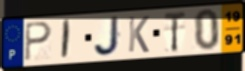0: (190, 8, 222, 52)
I: (59, 18, 73, 61)
J: (92, 15, 122, 58)
K: (127, 15, 151, 54)
P: (24, 21, 54, 64)
T: (163, 10, 188, 54)
